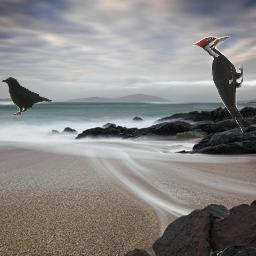Crow: (0, 76, 52, 115)
Woodpecker: (193, 36, 243, 133)
